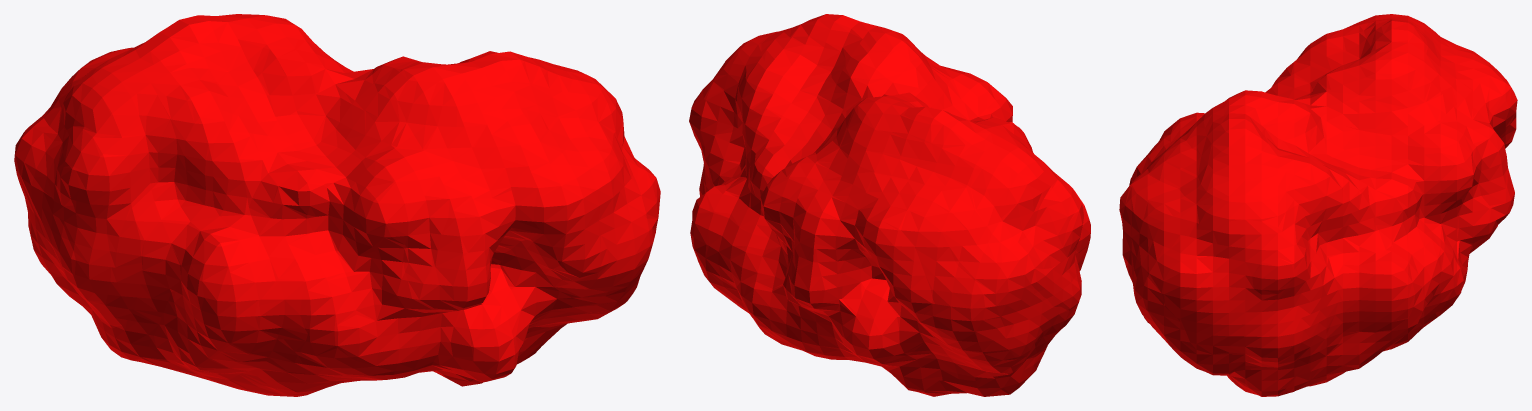
Rendered from pdxY_coarse.dae.
3 renders of one model, left to right at view 1: azimuth 30°, elevation 25°; view 2: azimuth 150°, elevation 25°; view 3: azimuth 270°, elevation 25°, orthographic. The views are drawn at different scales.
Parts seen in each view (by area): view 1: pdxY; view 2: pdxY; view 3: pdxY.
Part boxes in pixels (x1=…): pdxY: x1=14, y1=14, x2=660, y2=396; pdxY: x1=689, y1=14, x2=1090, y2=396; pdxY: x1=1119, y1=14, x2=1517, y2=396.
Size of the model in its own units: 76.38 by 51.46 by 64.58.
